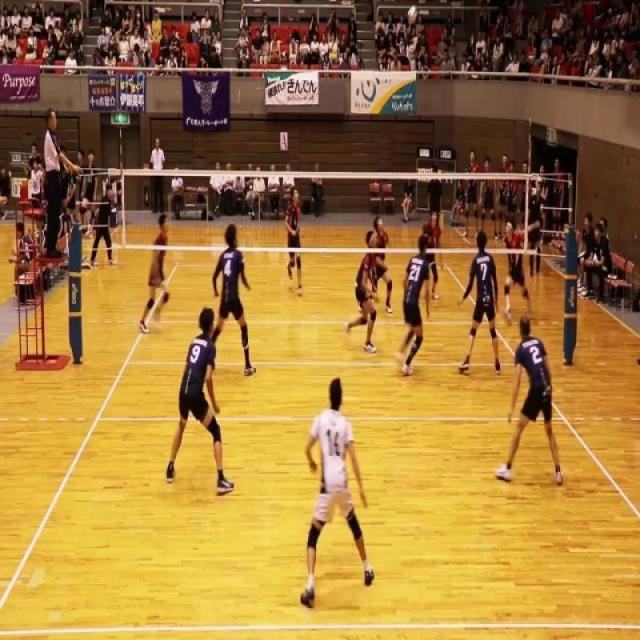volleyball: (407, 4, 418, 24)
